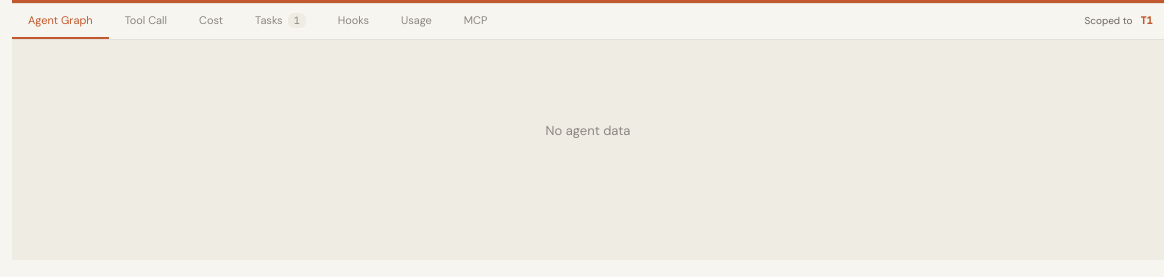
it: BottomPanel › Tasks tab auto-scoping › respects explicit viewingTurnNumber over auto-scope
Click the button "Tasks 1": (280,21) [239, 4, 322, 38]
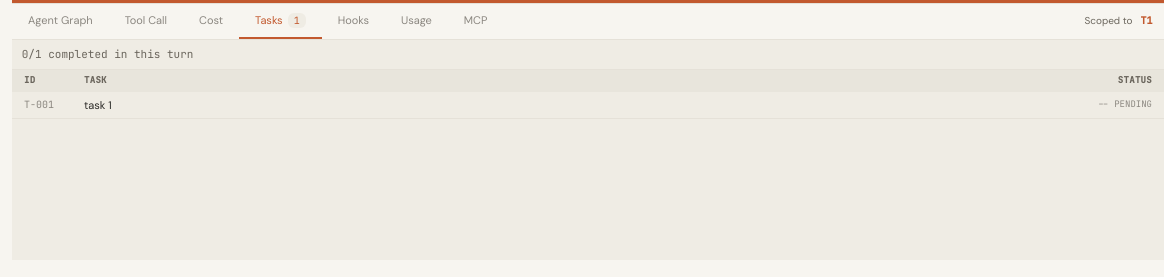
Expected: the text "Scoped to T1" is shown, [1084, 14, 1152, 27]
Expected: the number of list items is 1, [12, 92, 1163, 118]
